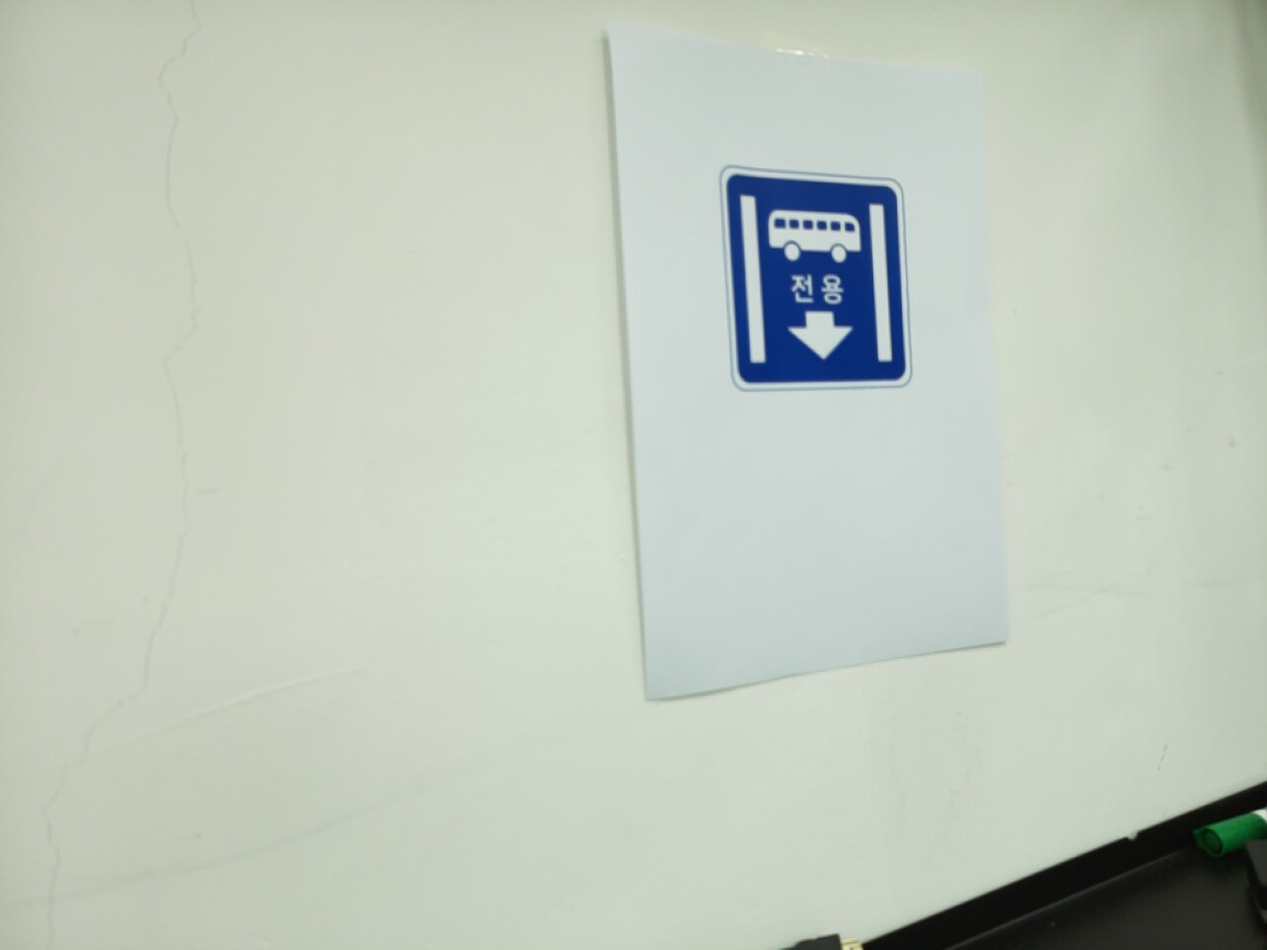bus_only_lane: (720, 166, 913, 391)
